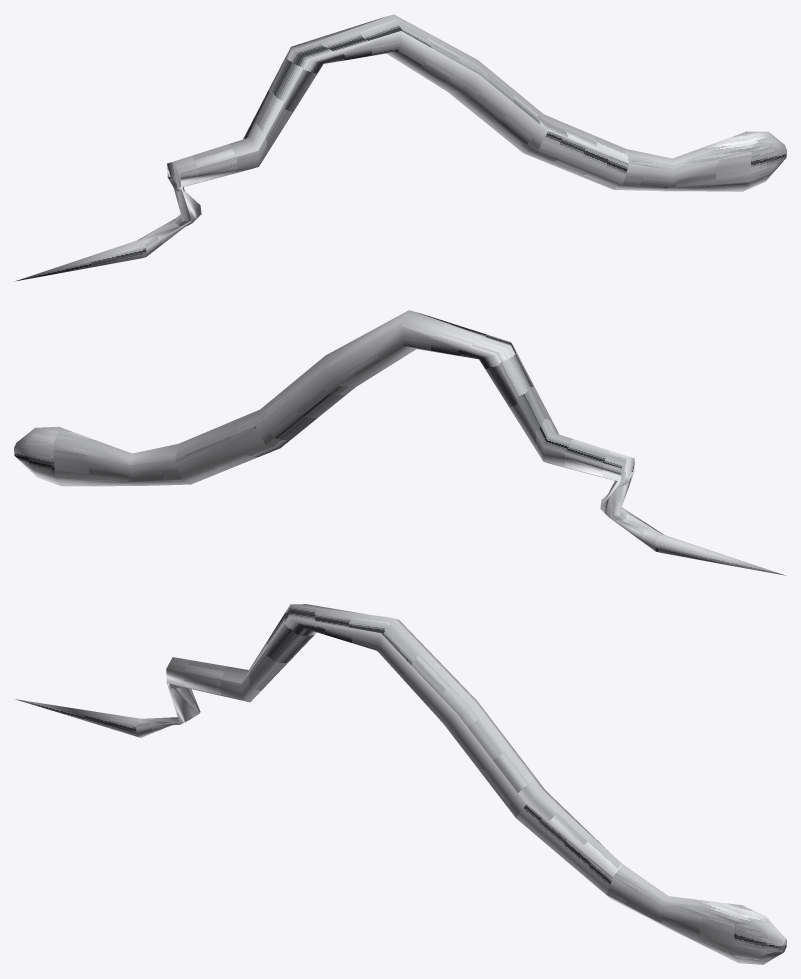
Rendered from snake_000027.obj.
3 renders of one model, top to bottom at view 1: azimuth 30°, elevation 25°; view 2: azimuth 150°, elevation 25°; view 3: azimuth 330°, elevation 25°, orthographic.
Parts seen in each view (by area): view 1: Cylinder; view 2: Cylinder; view 3: Cylinder.
Part boxes in pixels (x1,y1,x2,y2): Cylinder: (15,14,786,281); Cylinder: (14,310,785,575); Cylinder: (14,604,786,964).
Bounding box in the file's own units: 8.54 × 2.77 × 0.3671.
